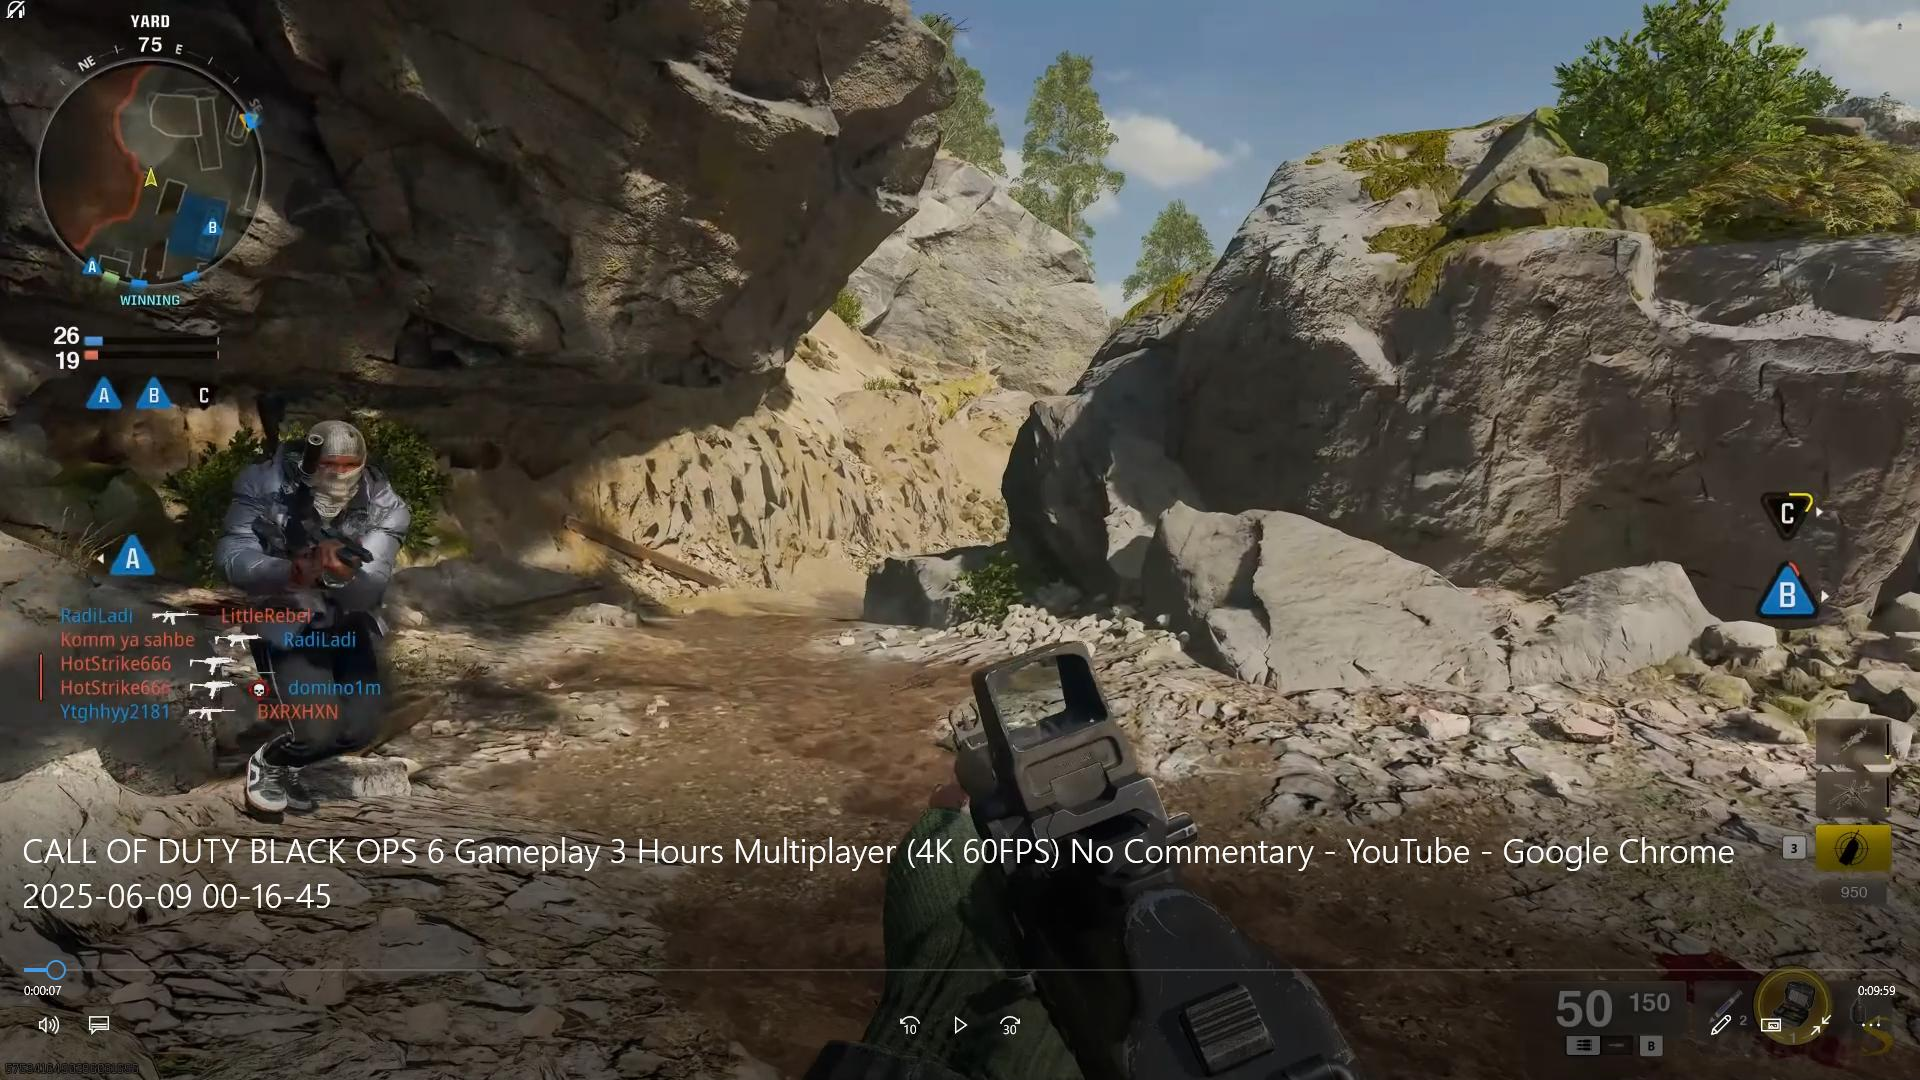Enemy: (224, 405, 405, 601)
